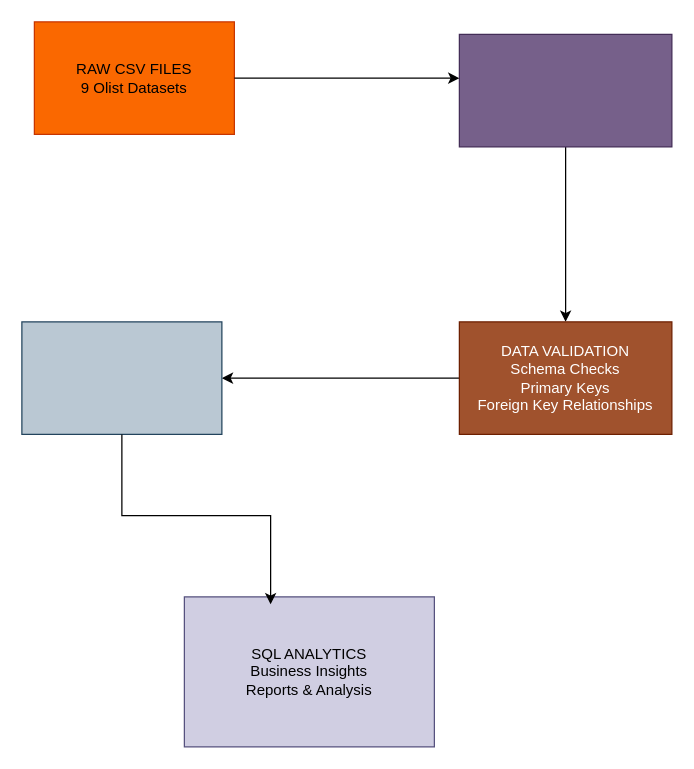
Some shapes in this 694 by 769 pixel diagram are drawn without their labels. Here are the shapes that lost their labels. From the top down, the centre of each, then its label:
At point (565, 90): "DATA CLEANING Python • Pandas Missing Values • Duplicates Transformation".
At point (121, 377): "MYSQL DATABASE aurixa_db 9 Tables Row Count Validation".
